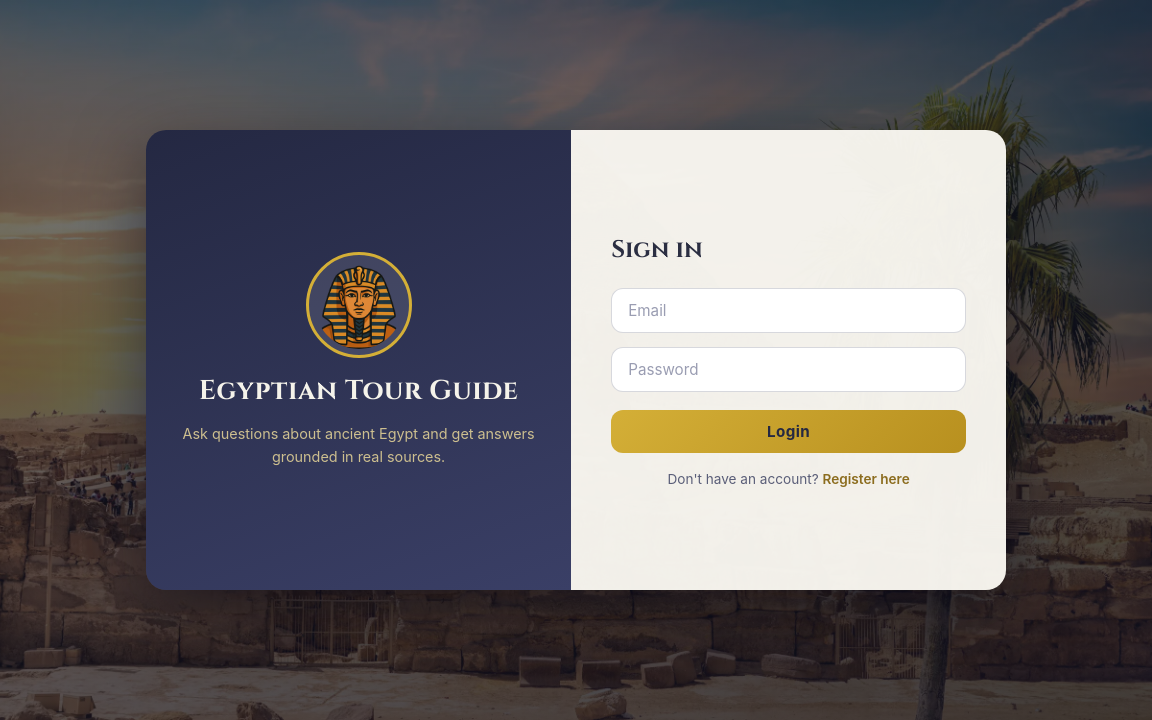
Login › falls back to a network error message when there is no response
Type "user@example.com" into the field with placeholder "Email" at (789, 310), box [611,288,966,332]
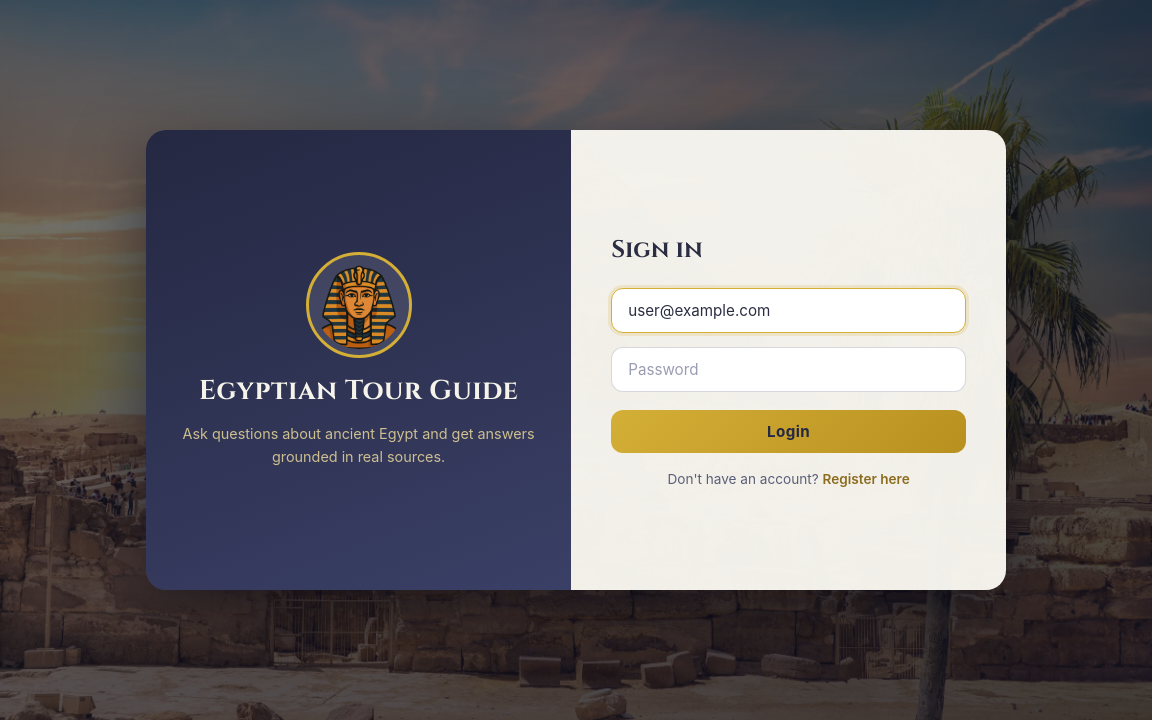
Type "password123" into the password field with placeholder "Password" at (789, 369), box [611,346,966,392]
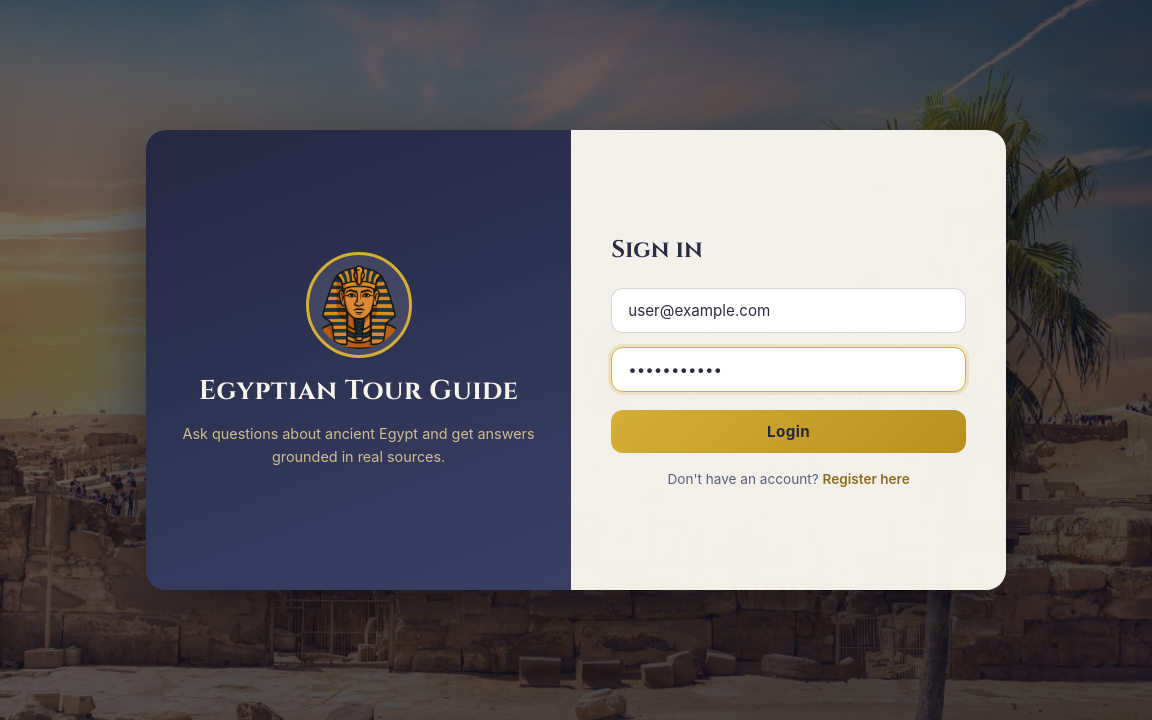
Click the button "Login" at (789, 431), box [611,410,966,452]
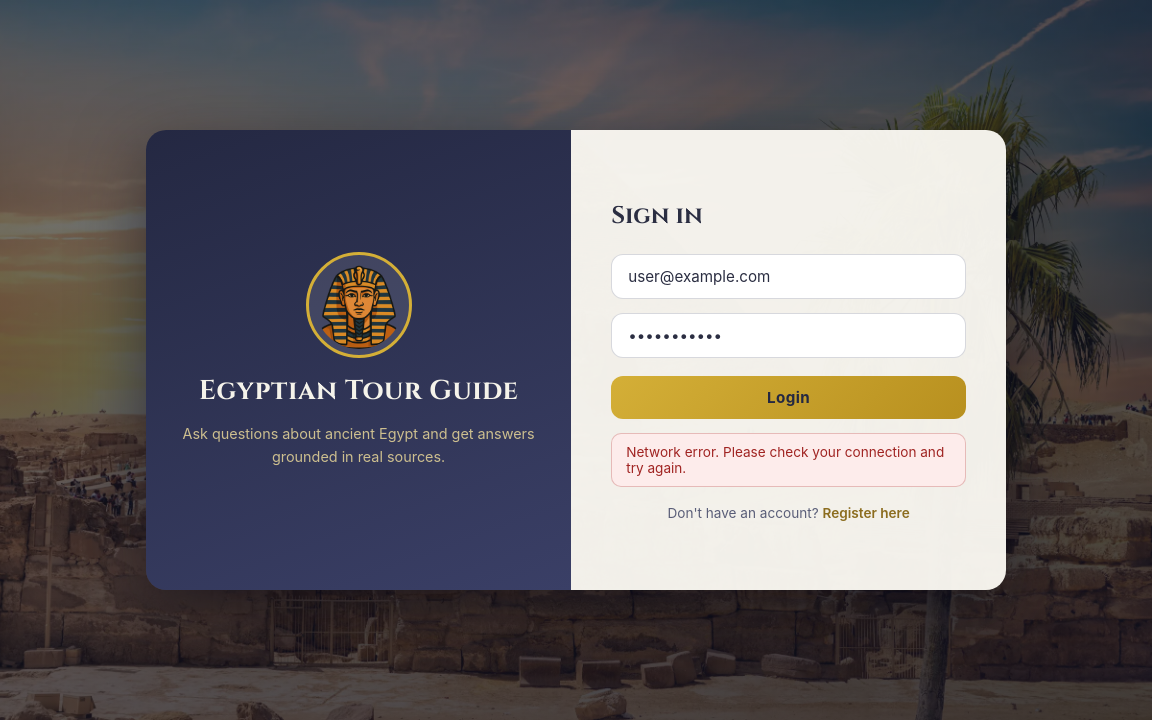
Expected: the message reads "Network error. Please check your connection and try again.", [626,444,944,476]
